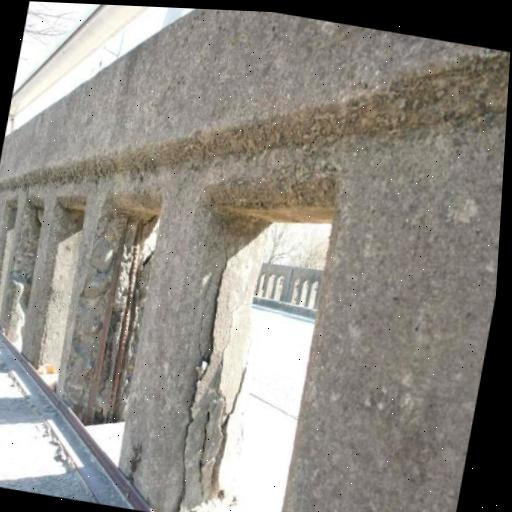exposed_rebar: (86, 228, 127, 426), (106, 221, 142, 422)
spalling: (64, 210, 156, 423)
